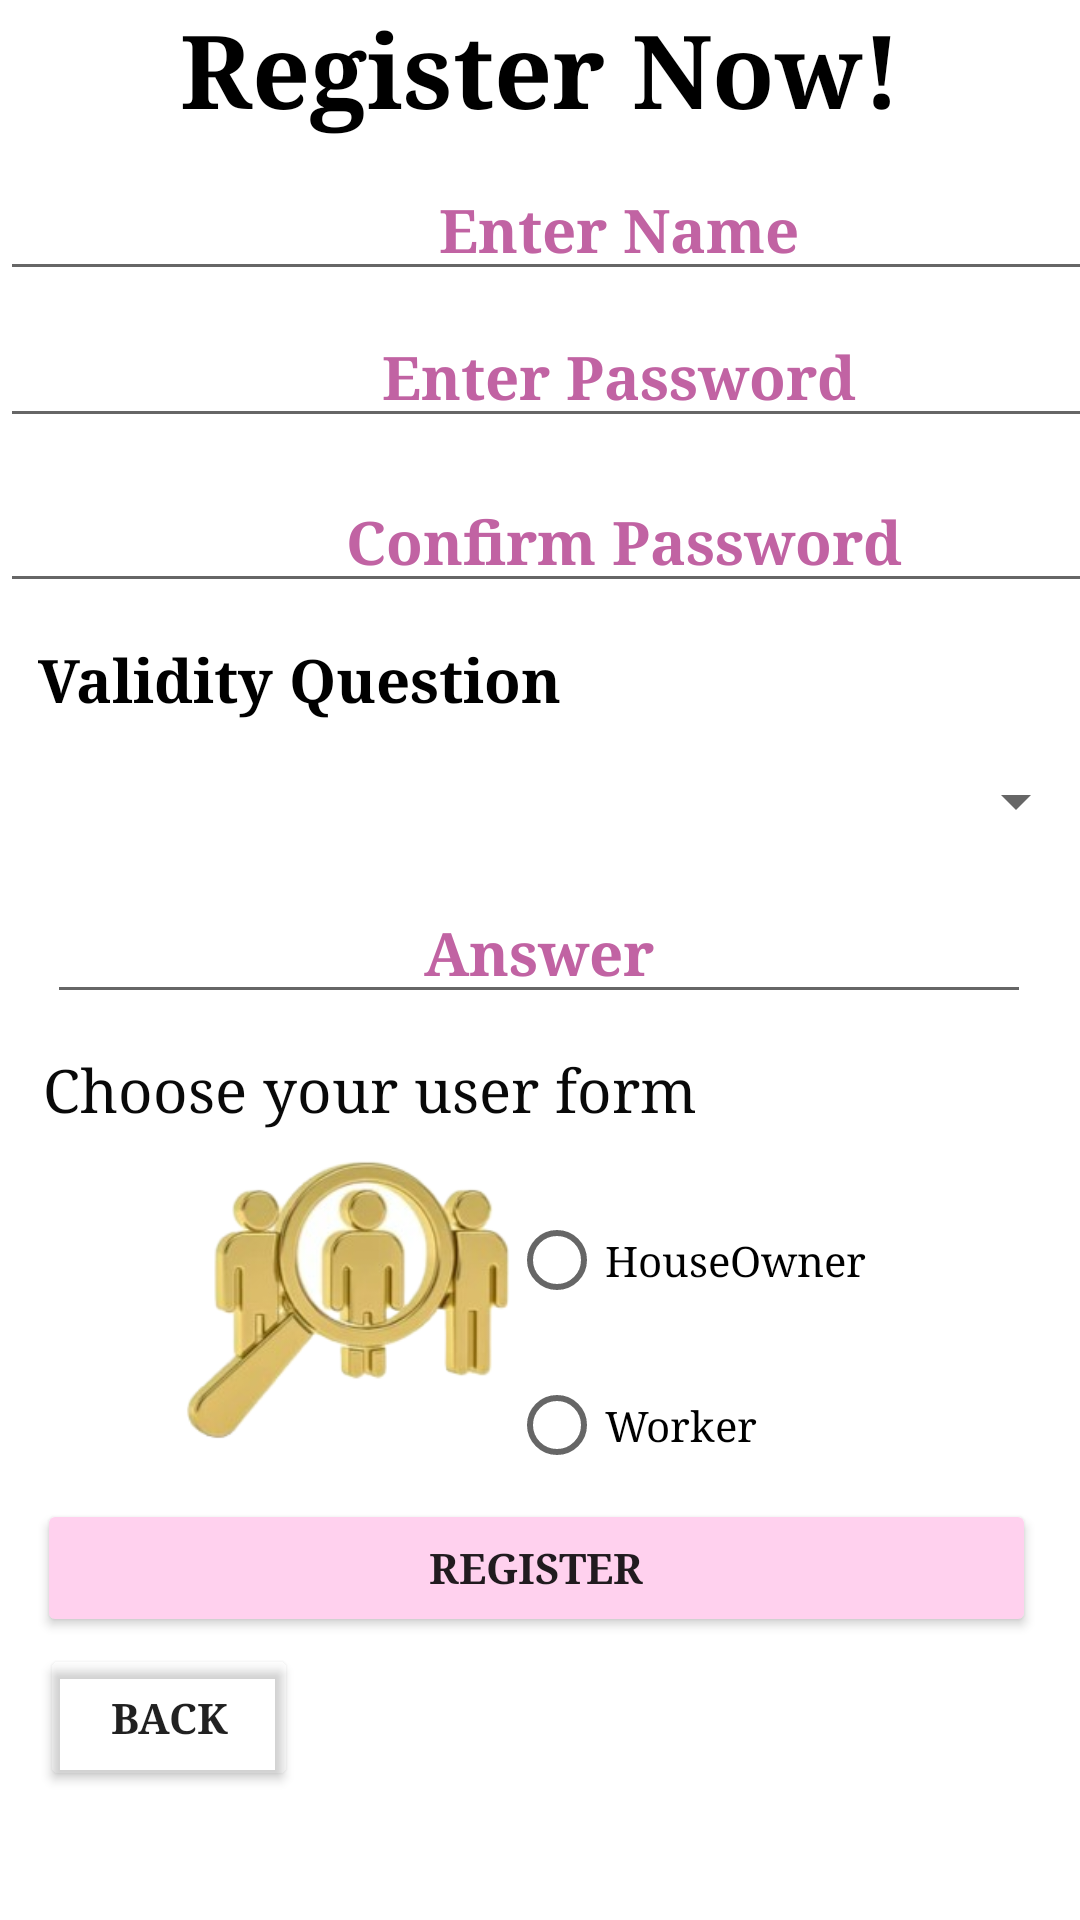

Where icons sit on this 1080px x 1920px app screen, as box=[x1, y1, x2, y2]:
usertype: box=[187, 1162, 509, 1438]
